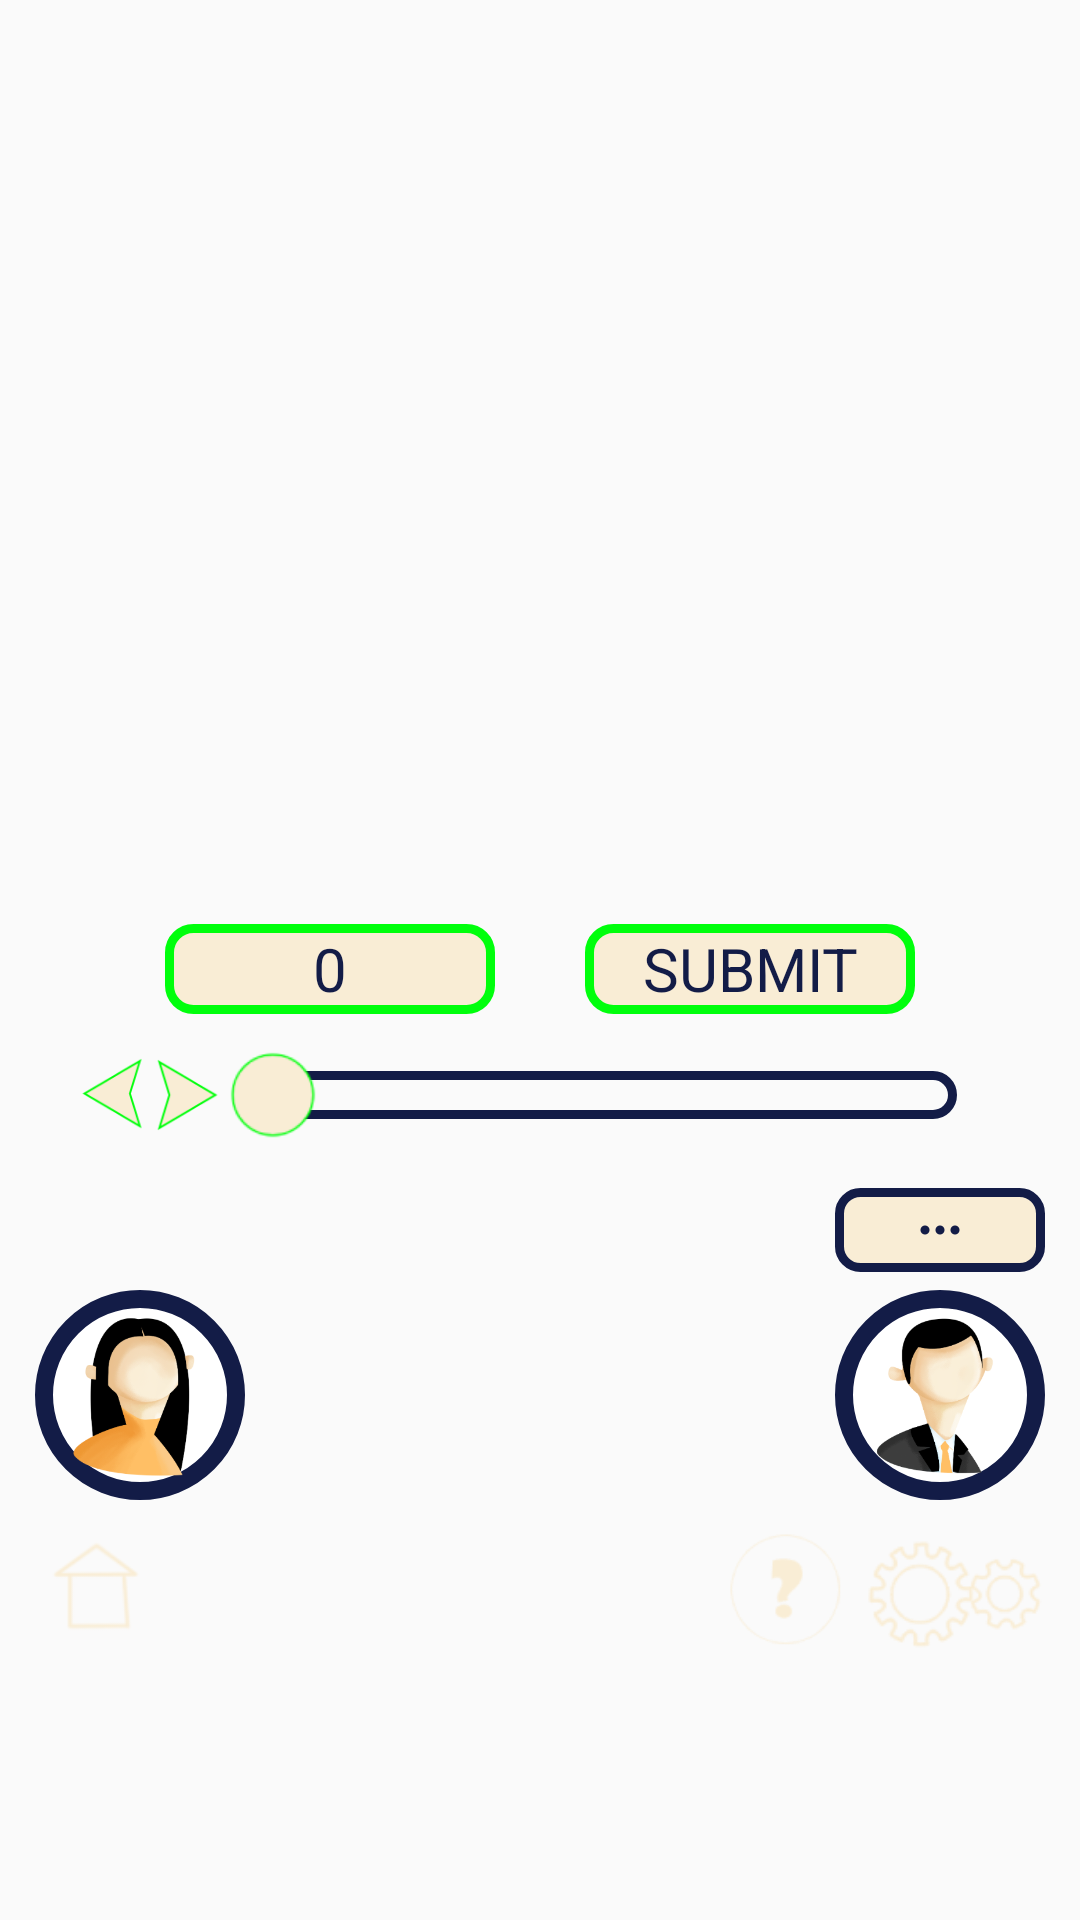

Named icons in this screenshot (1080x1920) and their bounding boxes, bbox(x1, y1, x2, y2):
face: bbox(35, 1290, 245, 1500), bbox(835, 1290, 1045, 1500)
help: bbox(772, 1559, 802, 1618)
home: bbox(55, 1545, 136, 1628)
left arrow: bbox(82, 1059, 142, 1128)
more: bbox(835, 1188, 1045, 1272)
right arrow: bbox(157, 1060, 217, 1130)
settings: bbox(870, 1543, 1039, 1646)
